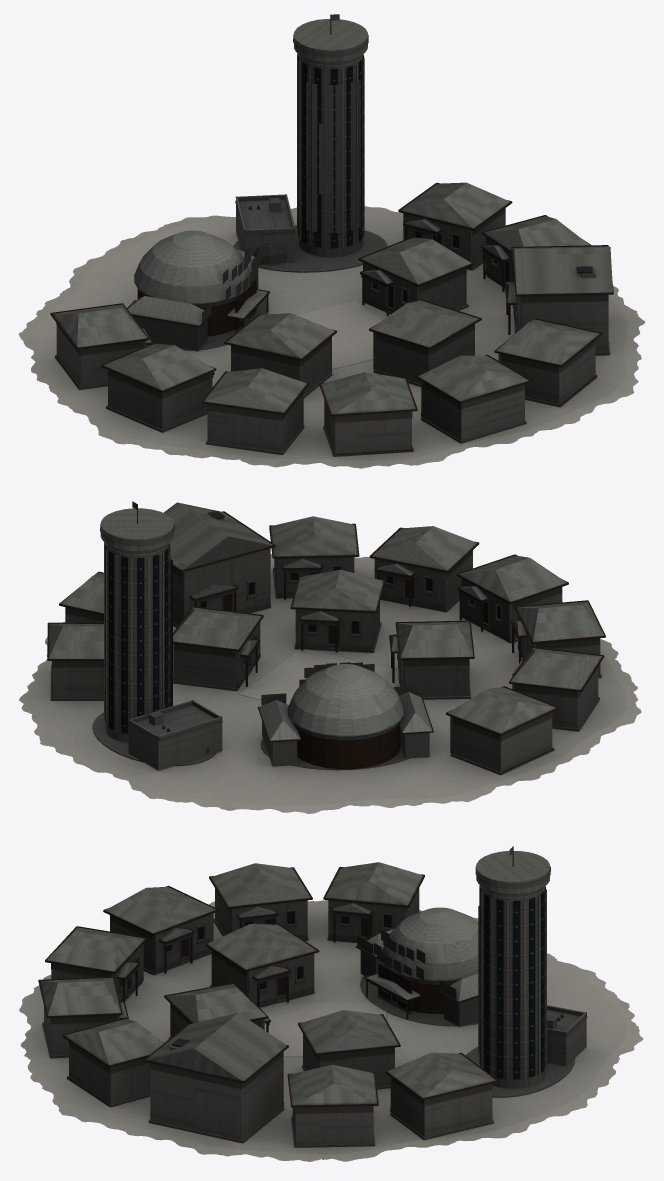
File: modern-town-medium-b-eastafrica-02e04afe.glb
3 renders of one model, top to bottom at view 1: azimuth 30°, elevation 25°; view 2: azimuth 150°, elevation 25°; view 3: azimuth 270°, elevation 25°, orthographic.
Visible parts, largest first — view 1: LOD0; view 2: LOD0; view 3: LOD0.
Part boxes in pixels (<box>): LOD0: <box>18,14,645,468</box>; LOD0: <box>19,501,641,813</box>; LOD0: <box>19,846,643,1161</box>.
Size of what is drawn, in the model's own units: 5.94 by 2.4 by 5.95.
Materials: 3 (3 with a texture image).
